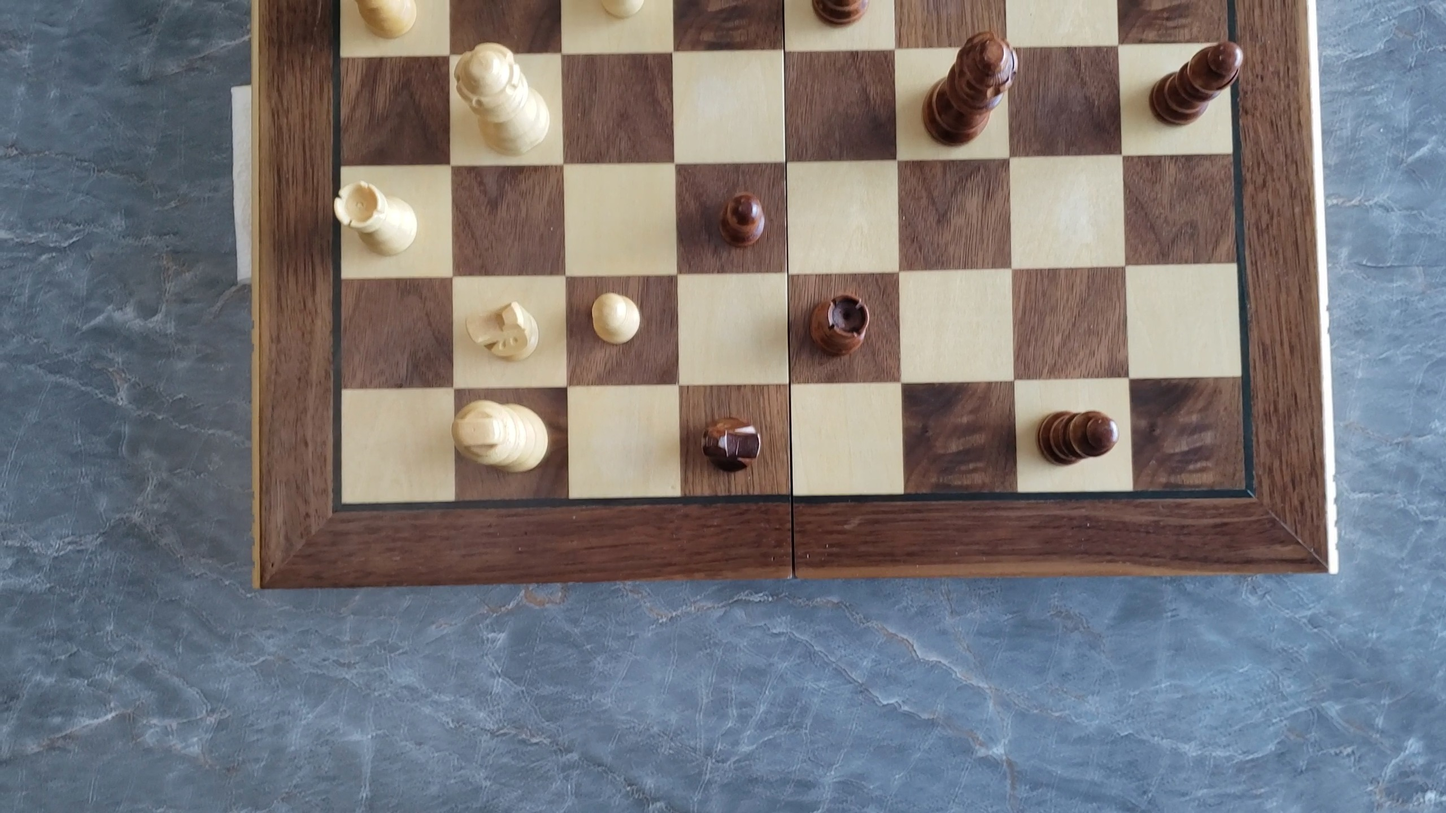black-bishop: (1147, 37, 1245, 127), (1030, 395, 1121, 479)
black-king: (922, 27, 1020, 147)
black-knight: (688, 406, 778, 480)
black-pawn: (716, 187, 769, 250)
black-rook: (807, 291, 873, 359)
white-king: (451, 396, 552, 475)
white-knight: (467, 297, 543, 365)
white-pawn: (586, 287, 646, 348)
white-queen: (449, 38, 555, 160)
white-rook: (330, 177, 422, 260)
